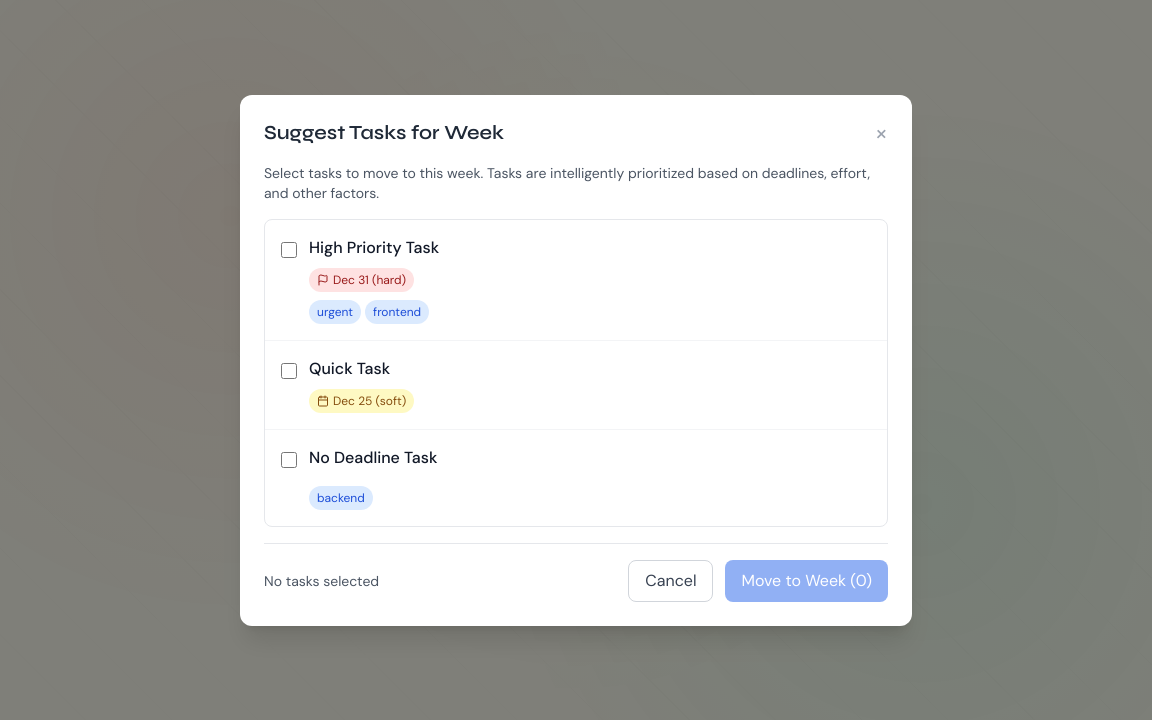
Test: SuggestWeekModal › handles task selection correctly
The width and height of the screenshot is (1152, 720).
Expected: the checkbox named "Select Quick Task" is not checked, 281,362 -> 297,378
What coordinates should you click on to do the following:
click the checkbox named "Select High Priority Task"
I would click on:
 (289, 250)
Its box is 281,242 -> 297,258.
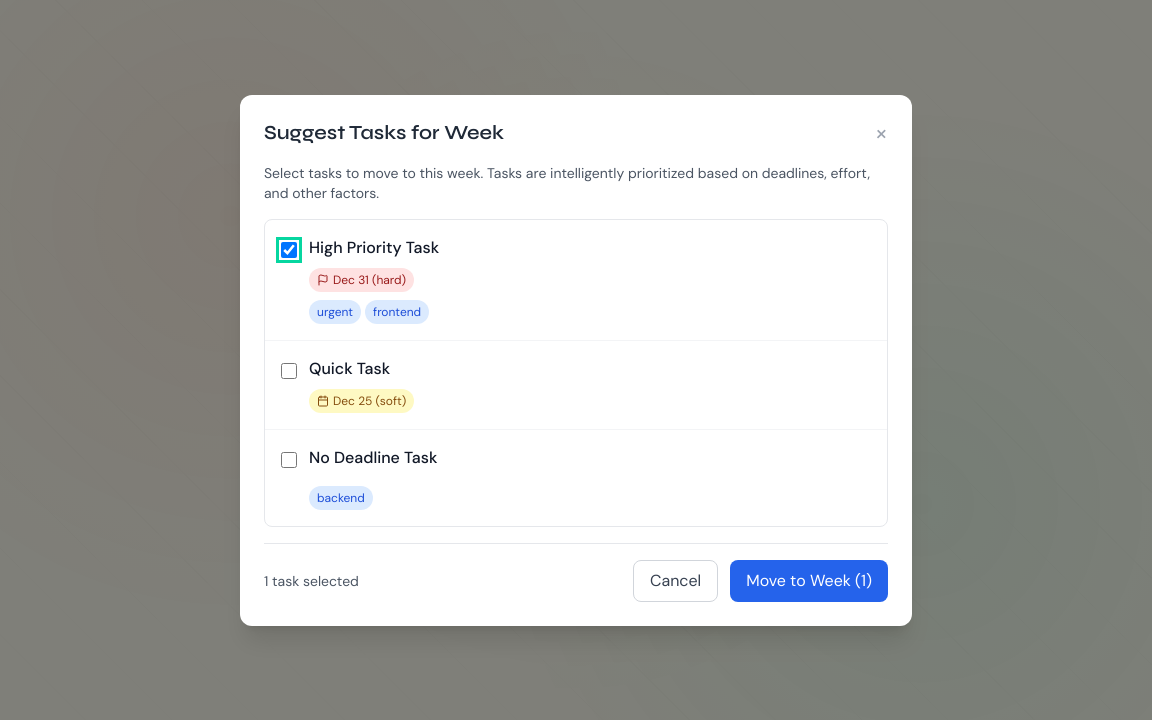
Expected: the checkbox named "Select High Priority Task" is checked, 281,242 -> 297,258
Expected: the text "1 task selected" is shown, 264,570 -> 359,590
What coordinates should you click on to do the following:
click the checkbox named "Select Quick Task"
I would click on:
 (289, 370)
Its box is 281,362 -> 297,378.
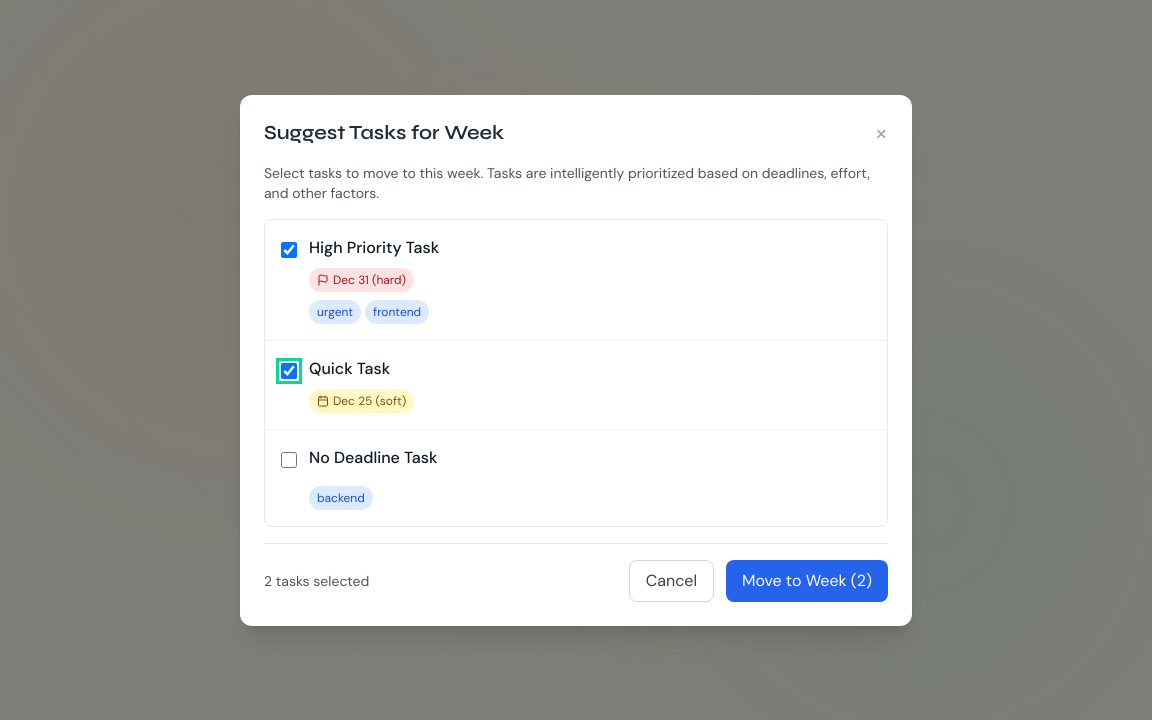
Expected: the checkbox named "Select Quick Task" is checked, 281,362 -> 297,378
Expected: the text "2 tasks selected" is shown, 264,570 -> 369,590
What coordinates should you click on to do the following:
click the checkbox named "Select High Priority Task"
I would click on:
 (289, 250)
Its box is 281,242 -> 297,258.
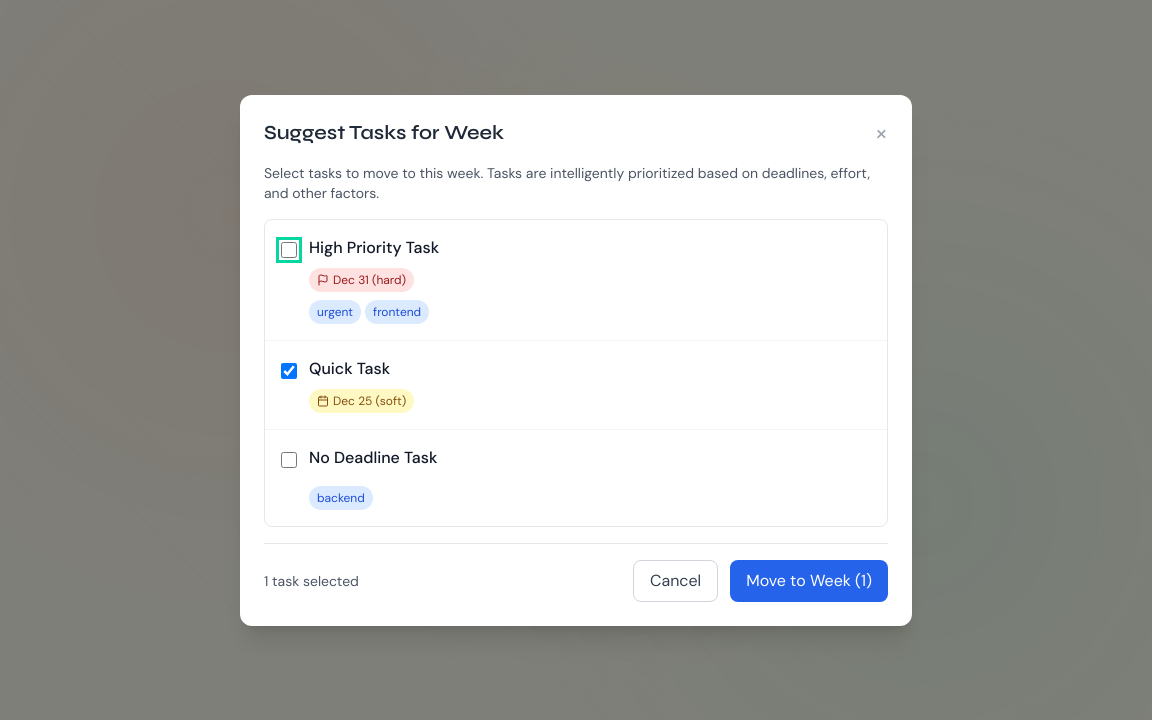
Expected: the checkbox named "Select High Priority Task" is not checked, 281,242 -> 297,258
Expected: the text "1 task selected" is shown, 264,570 -> 359,590
